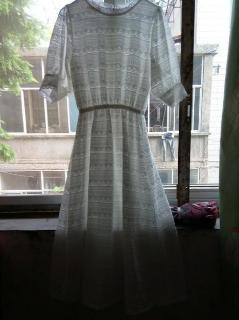short sleeve dress: (39, 0, 191, 317)
